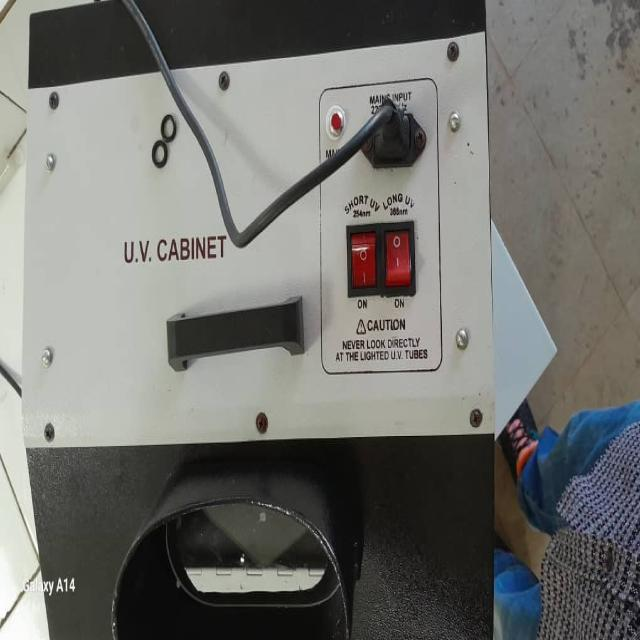U.V Cabinet: (21, 3, 492, 627)
